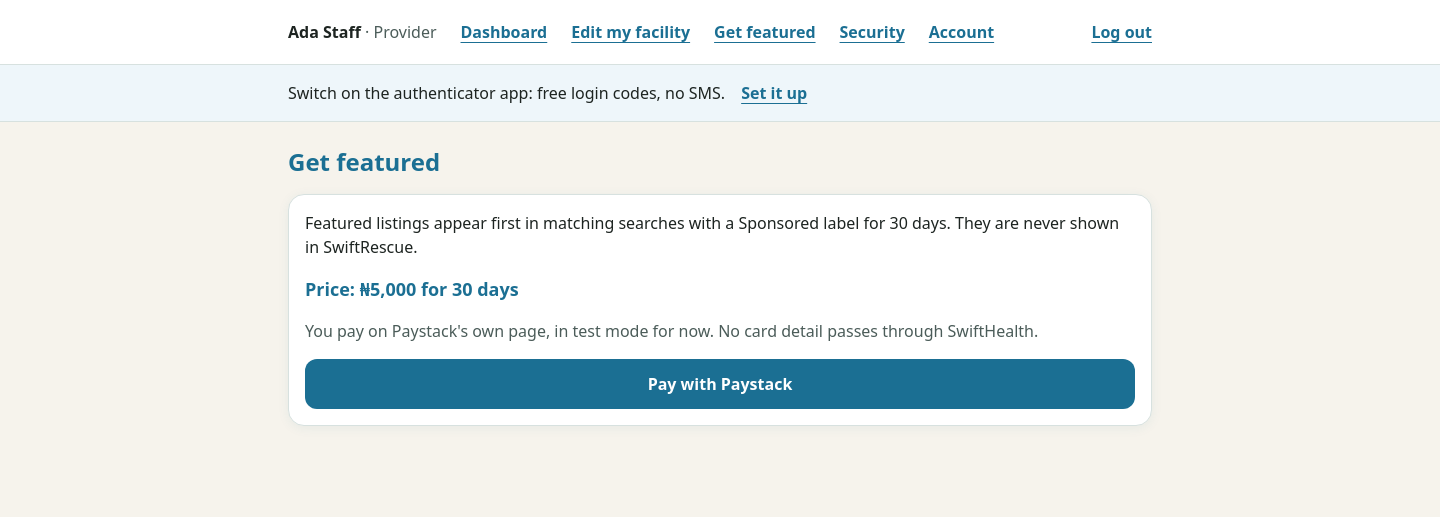
Scenario: get featured (/provider/featured) › shows the API's sentence for an answer 503: Payments are not set up yet.
Expected: the heading "Get featured" is shown, [288,145,440,178]
Click the button "Pay with Paystack". click: (720, 384)
box: [305,359,1135,409]
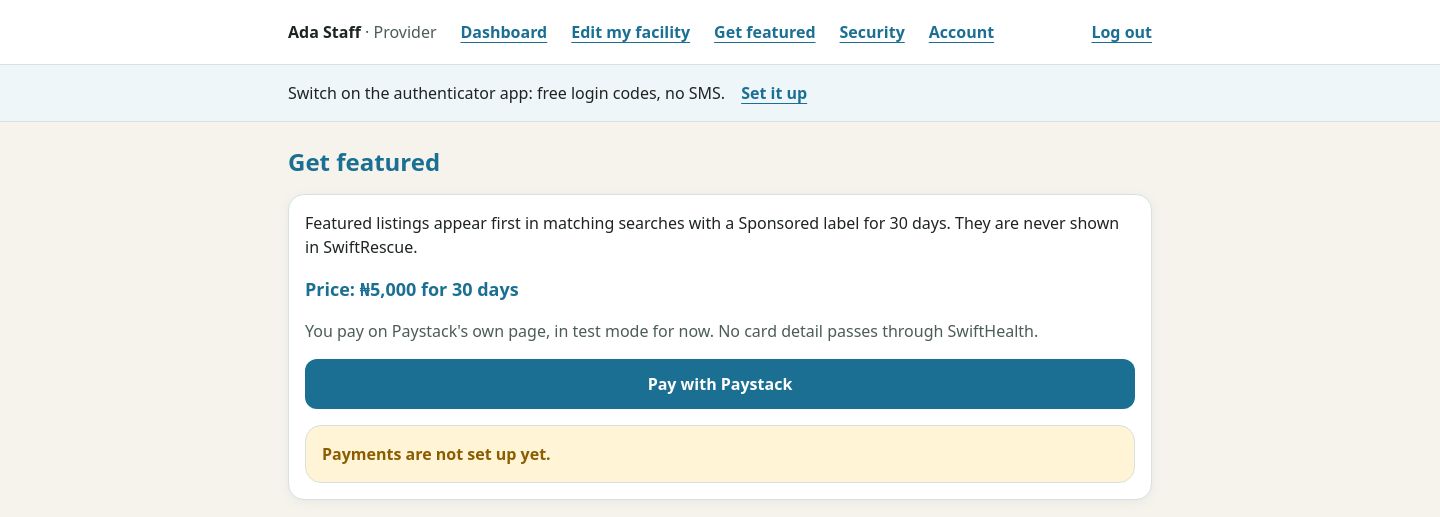
Result: the message reads "Payments are not set up yet." at [322,443,551,465]
